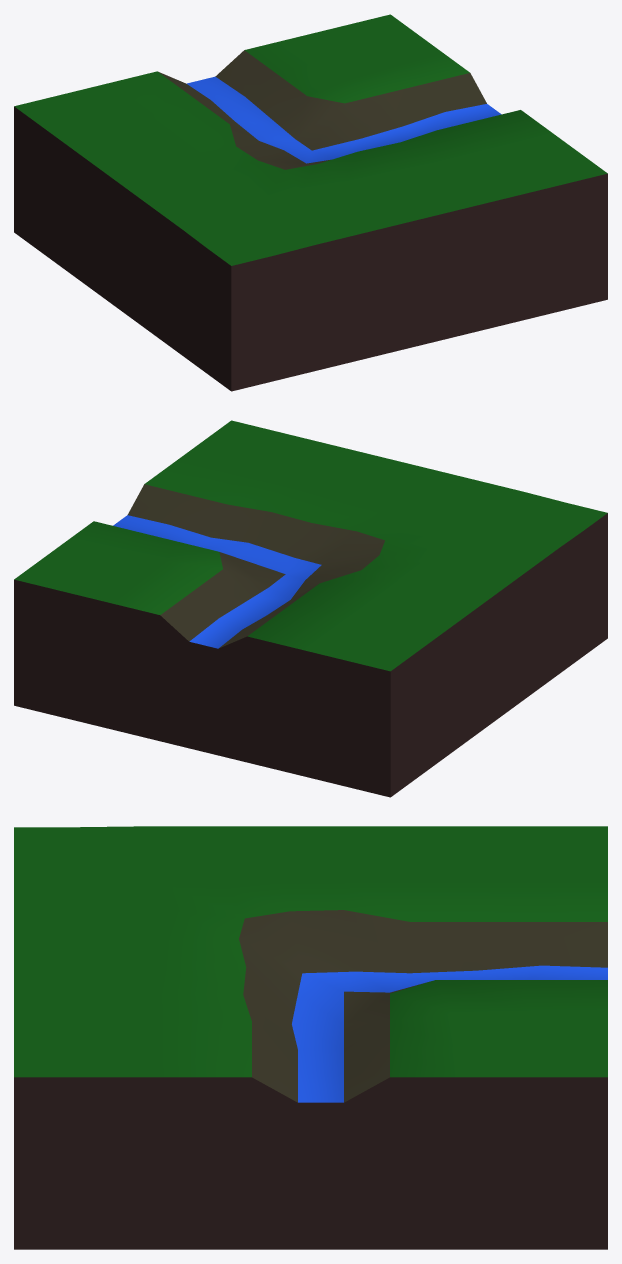
File: Gazebo Land Chunk.FBX
3 views of the same model, one above another, from view 1: azimuth 30°, elevation 25°; view 2: azimuth 150°, elevation 25°; view 3: azimuth 270°, elevation 25° (orthographic). The views are drawn at different scales.
Parts seen in each view (by area): view 1: Gazebo Land Chunk; view 2: Gazebo Land Chunk; view 3: Gazebo Land Chunk.
Boxes of the visible parts, bbox=[...] form: Gazebo Land Chunk: bbox=[14, 14, 607, 391]; Gazebo Land Chunk: bbox=[14, 420, 607, 797]; Gazebo Land Chunk: bbox=[14, 826, 607, 1249].
Size of the model in its own units: 25 by 8 by 25.
